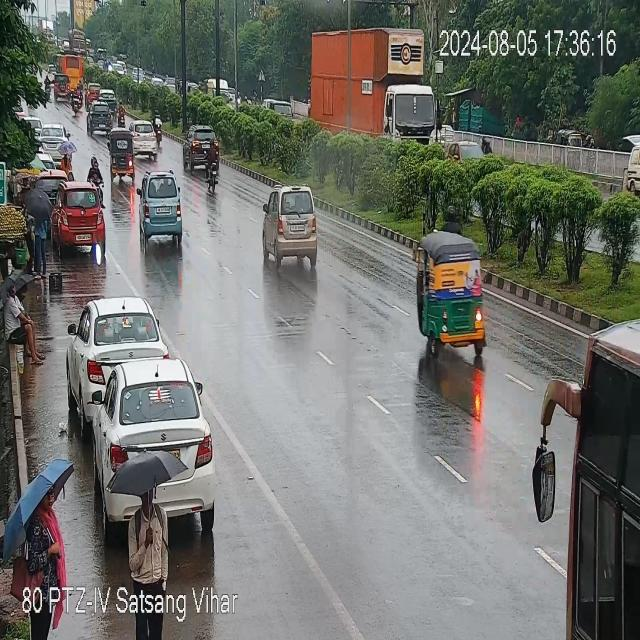2-wheelers: (205, 138, 219, 196), (72, 82, 83, 116), (117, 101, 125, 126)
auto: (410, 236, 491, 356), (107, 132, 136, 178)
bus: (534, 302, 638, 636), (56, 50, 83, 90)
car: (80, 358, 214, 524), (70, 298, 162, 400), (262, 185, 322, 264), (54, 187, 104, 248), (140, 174, 182, 245), (182, 125, 221, 164), (129, 124, 162, 158), (85, 107, 117, 136), (54, 74, 71, 100), (98, 90, 120, 108)
pedestrian: (118, 453, 175, 588), (18, 481, 62, 588), (2, 278, 44, 360), (26, 177, 52, 273), (56, 146, 74, 178), (89, 156, 104, 188)
truck: (300, 28, 444, 144)
